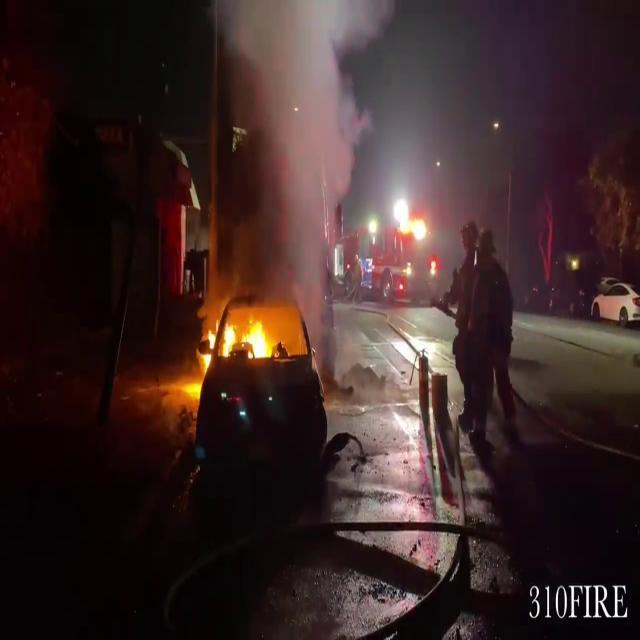Fire: (203, 302, 280, 368)
Smoke: (212, 0, 362, 318)
